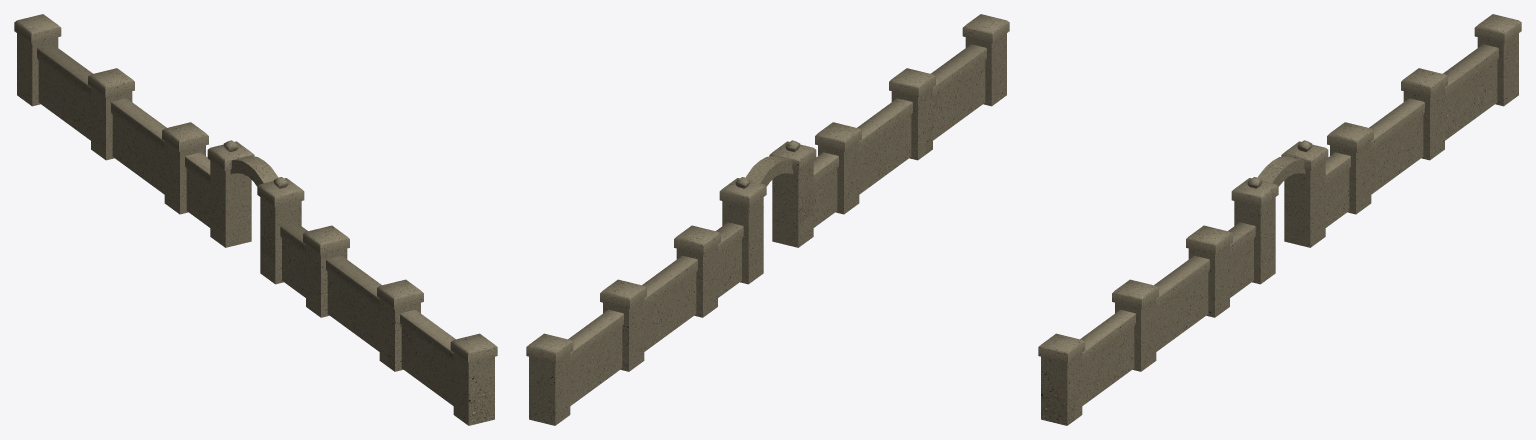
Rendered from Wall.fbx.
3 views of the same model, side by side, from view 1: azimuth 30°, elevation 25°; view 2: azimuth 150°, elevation 25°; view 3: azimuth 330°, elevation 25° (orthographic).
Visible parts, largest first — view 1: Wall; view 2: Wall; view 3: Wall.
Part boxes in pixels (x1=…): Wall: x1=14, y1=14, x2=497, y2=425; Wall: x1=526, y1=14, x2=1009, y2=425; Wall: x1=1038, y1=14, x2=1521, y2=425.
Size of the model in its own units: 227 by 714 by 6007.
Materials: 1 (1 with a texture image).
